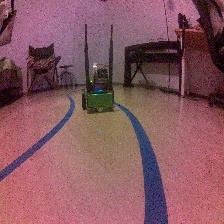rob: (80, 62, 114, 113)
